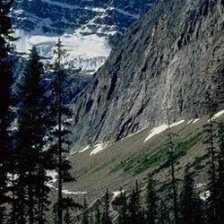neutral: (2, 3, 222, 221)
